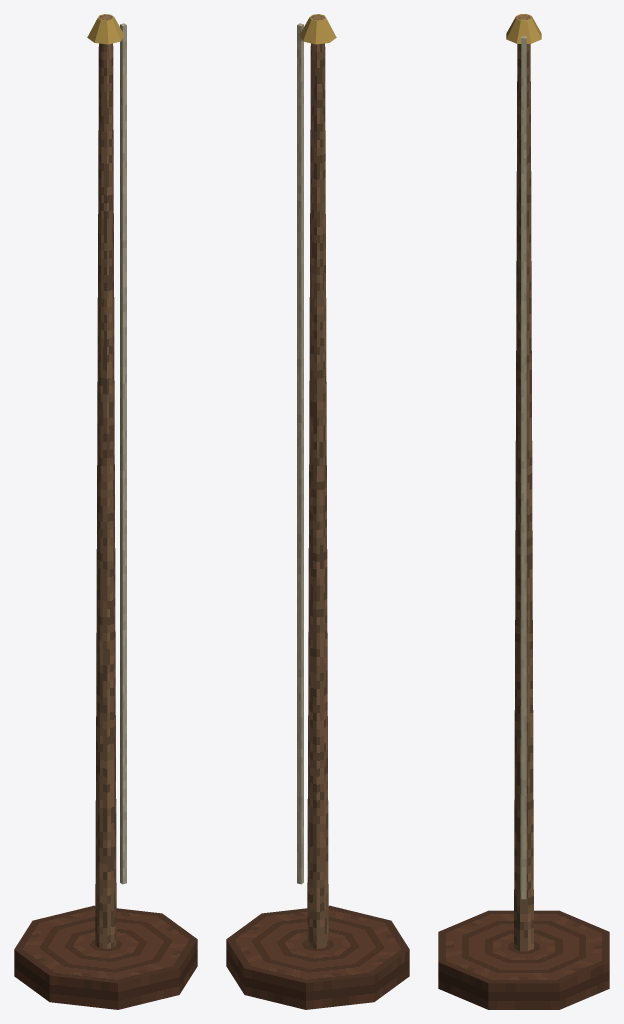
Rendered from f_indoor_flagpole_wooden.glb.
3 renders of one model, left to right at view 1: azimuth 30°, elevation 25°; view 2: azimuth 150°, elevation 25°; view 3: azimuth 270°, elevation 25°, orthographic.
Parts seen in each view (by area): view 1: block_pole, block_weighted-base, block_halyard, block_finial; view 2: block_pole, block_weighted-base, block_halyard, block_finial; view 3: block_weighted-base, block_pole, block_halyard, block_finial.
Boxes of the visible parts, x1,y1,x2,y2 form: block_pole: (95, 14, 116, 948); block_weighted-base: (14, 905, 197, 1009); block_halyard: (120, 23, 126, 884); block_finial: (87, 14, 124, 44); block_pole: (307, 14, 328, 948); block_weighted-base: (226, 905, 409, 1009); block_halyard: (297, 23, 303, 884); block_finial: (299, 14, 336, 44); block_weighted-base: (438, 910, 609, 1009); block_pole: (514, 14, 533, 951); block_halyard: (521, 36, 526, 899); block_finial: (506, 14, 541, 43).
Bounding box in the file's own units: 0.4065 × 2.5 × 0.4065.
Materials: 1 (1 with a texture image).
